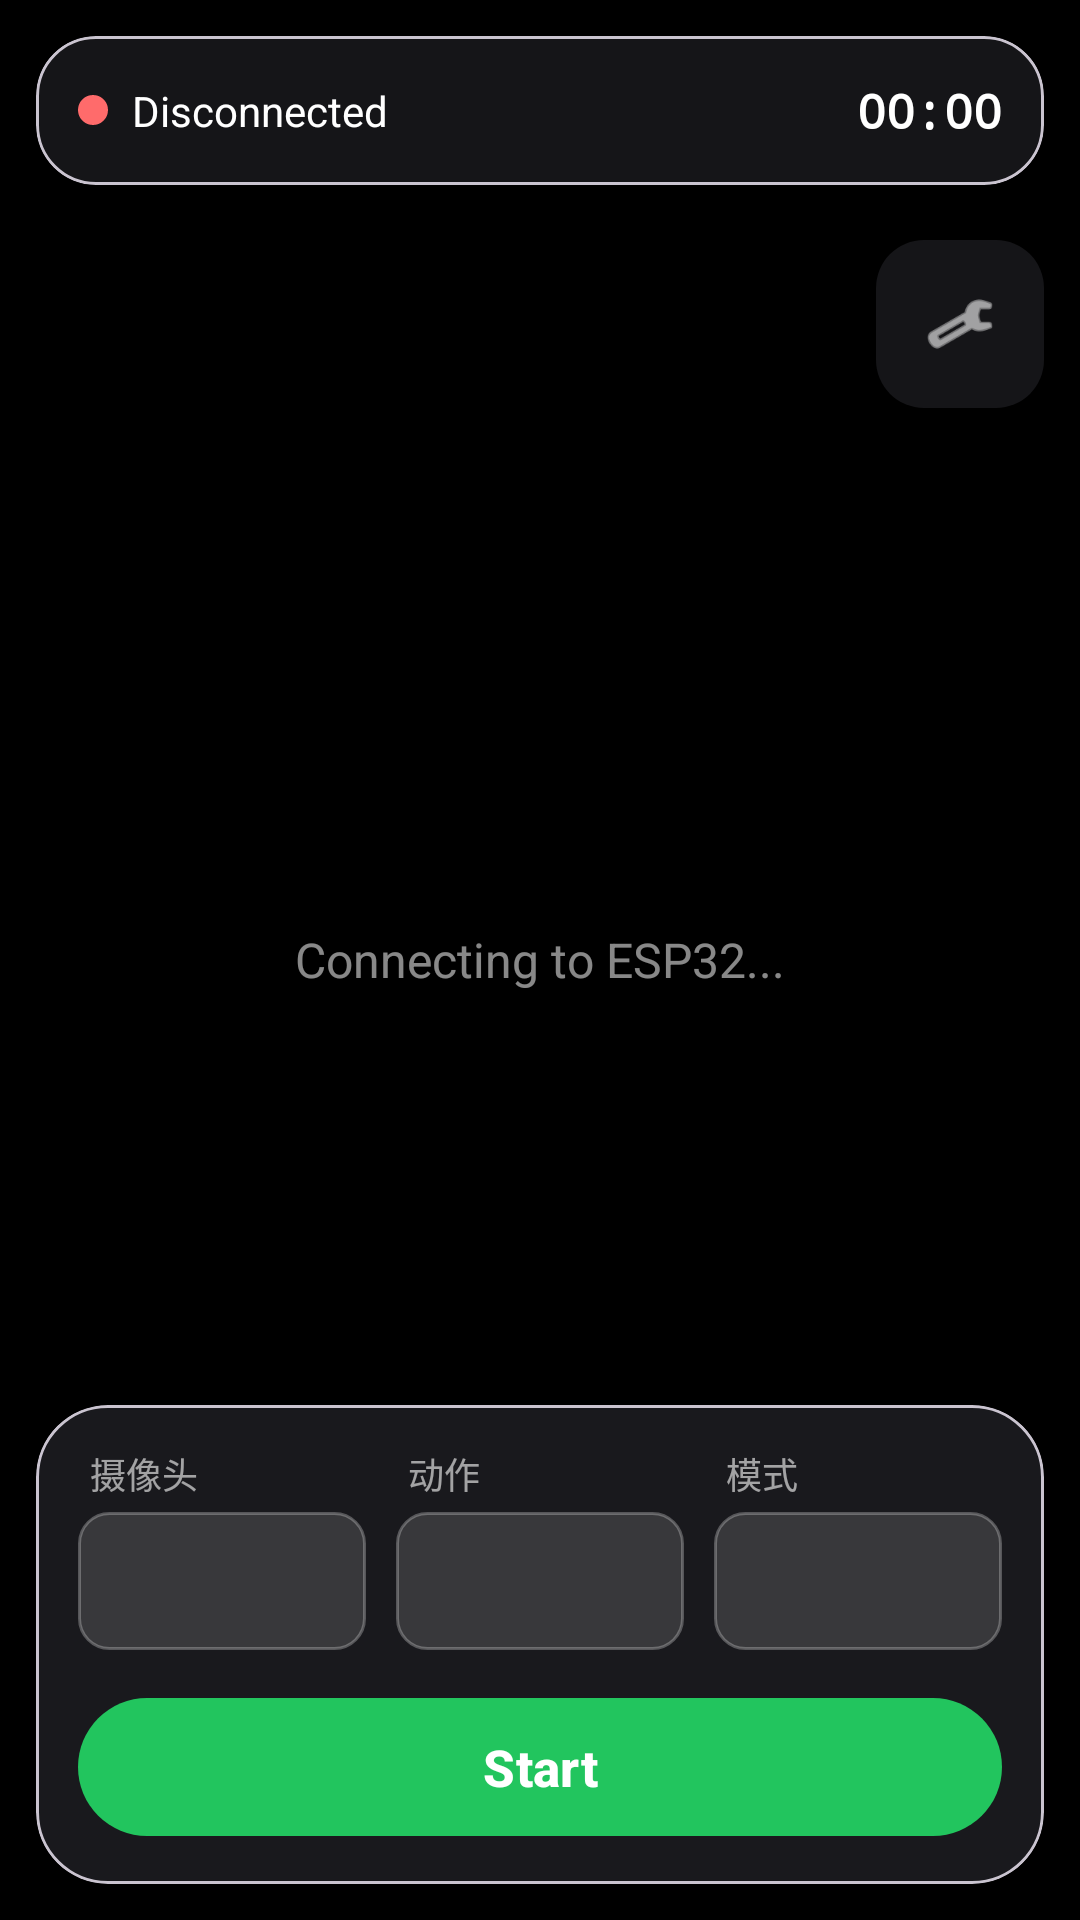

Icons on this 1080×1920 Android screen, each with the point to tap as point (x, y):
Settings: point (960, 324)
